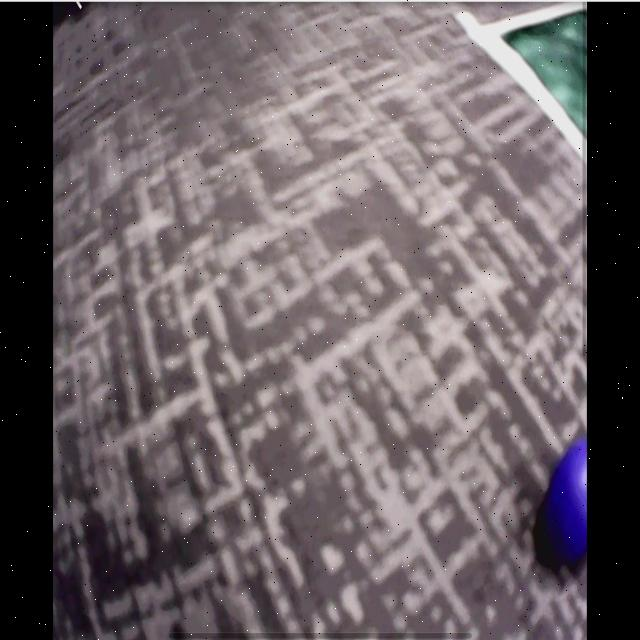ball: (554, 446, 589, 562)
